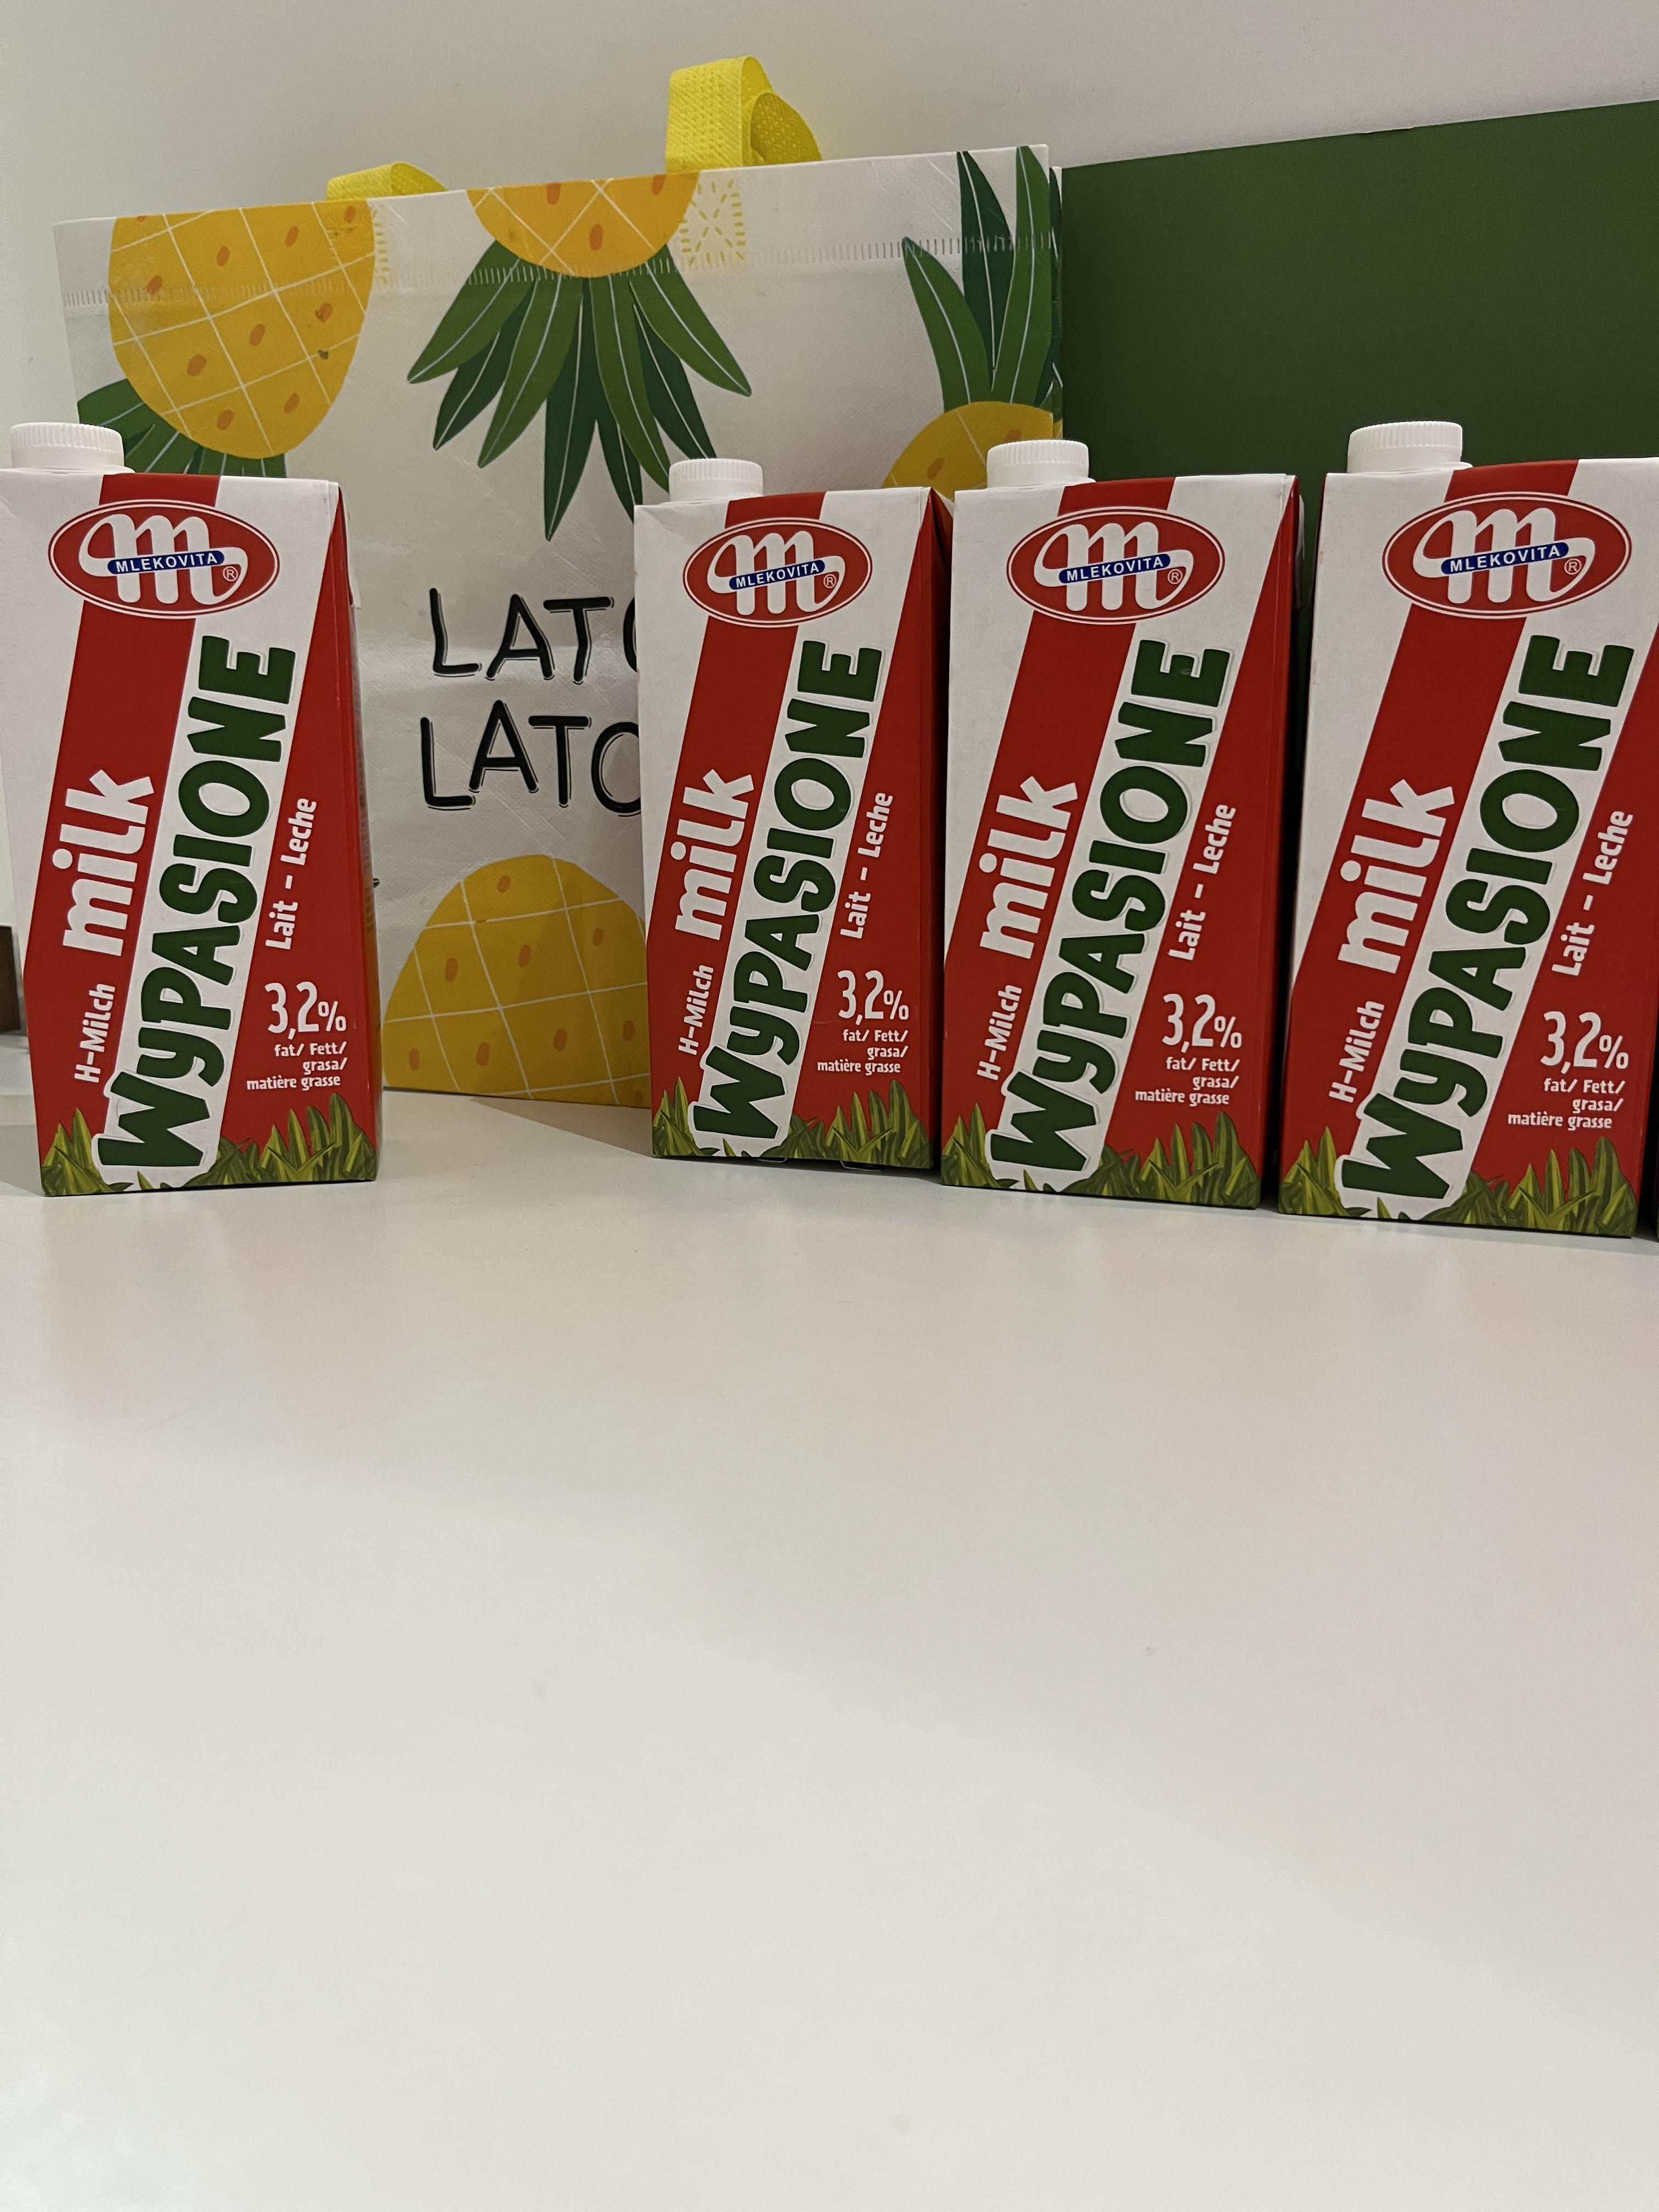Milk: (1298, 463, 1659, 1249), (3, 475, 378, 1191), (936, 481, 1286, 1235), (638, 498, 932, 1181)
